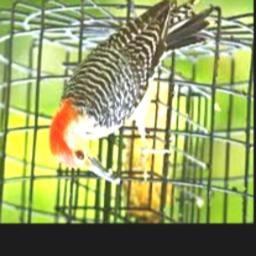Woodpecker: (48, 0, 210, 185)
